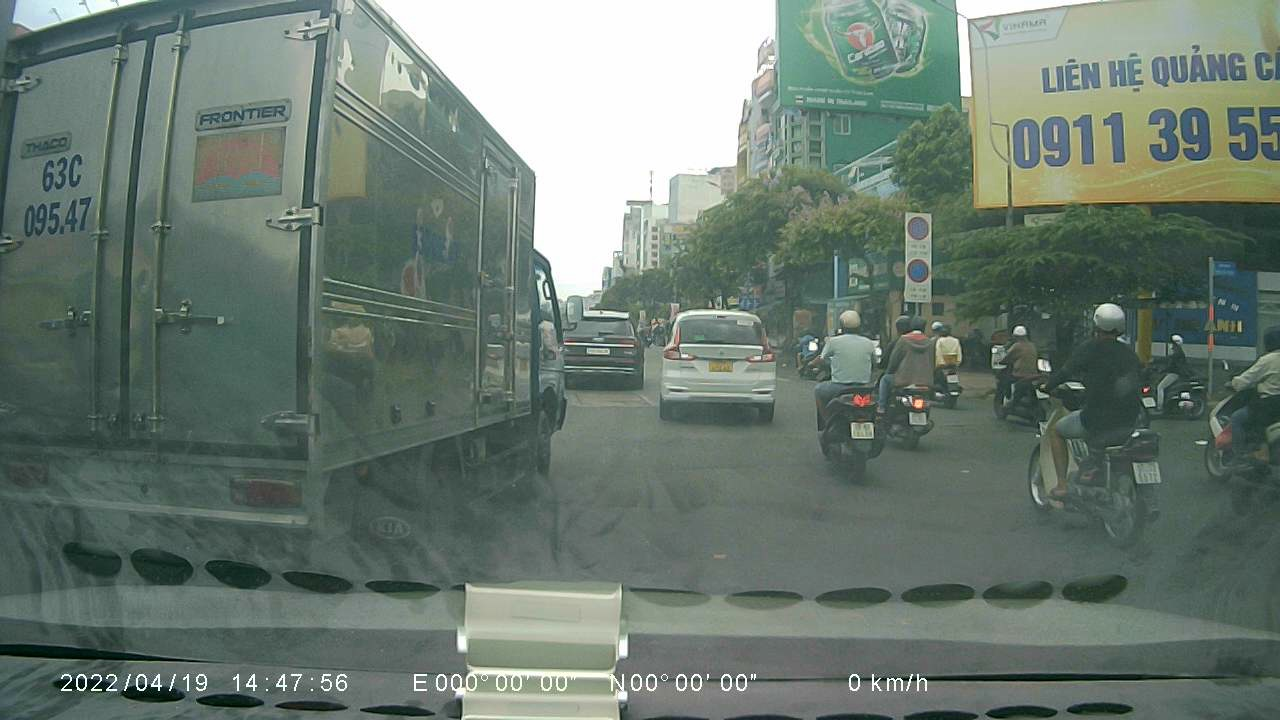Cam do xe: (908, 259, 932, 282)
